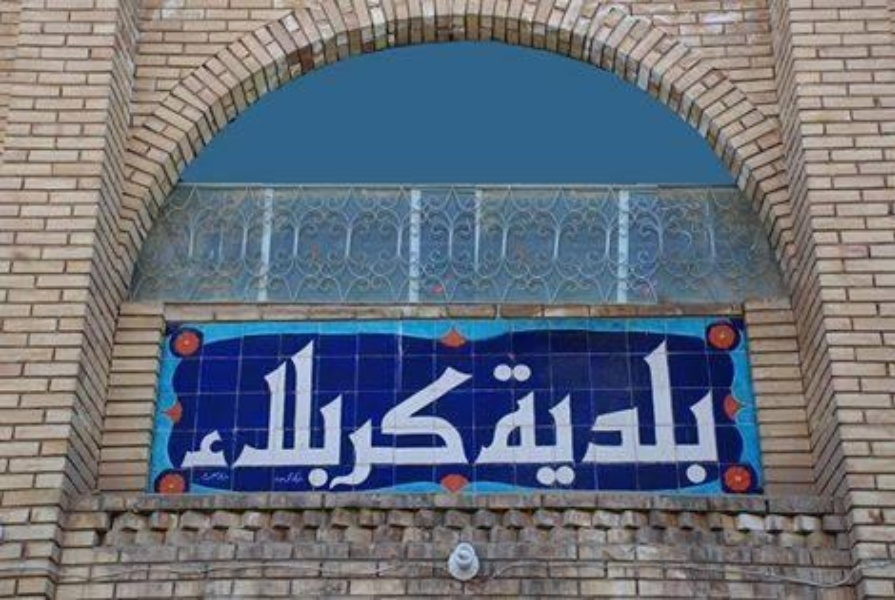text: (177, 336, 192, 490), (193, 336, 208, 490), (209, 336, 224, 490), (225, 336, 240, 490), (241, 336, 256, 490), (257, 336, 272, 490), (273, 336, 288, 490), (289, 336, 304, 490), (305, 336, 320, 490), (321, 336, 336, 490), (337, 336, 352, 490), (353, 336, 368, 490), (369, 336, 384, 490), (385, 336, 400, 490), (401, 336, 416, 490), (417, 336, 432, 490), (433, 336, 448, 490), (449, 336, 464, 490), (481, 336, 496, 488), (497, 336, 512, 488), (513, 336, 528, 488), (529, 336, 544, 488), (545, 336, 560, 488), (561, 336, 576, 488), (577, 336, 592, 488), (593, 336, 608, 488), (609, 336, 624, 488), (625, 336, 640, 488), (641, 336, 656, 488), (657, 336, 672, 488), (673, 336, 688, 488), (689, 336, 704, 488), (705, 336, 720, 488), (465, 336, 475, 490), (477, 336, 480, 488), (721, 336, 724, 488)
